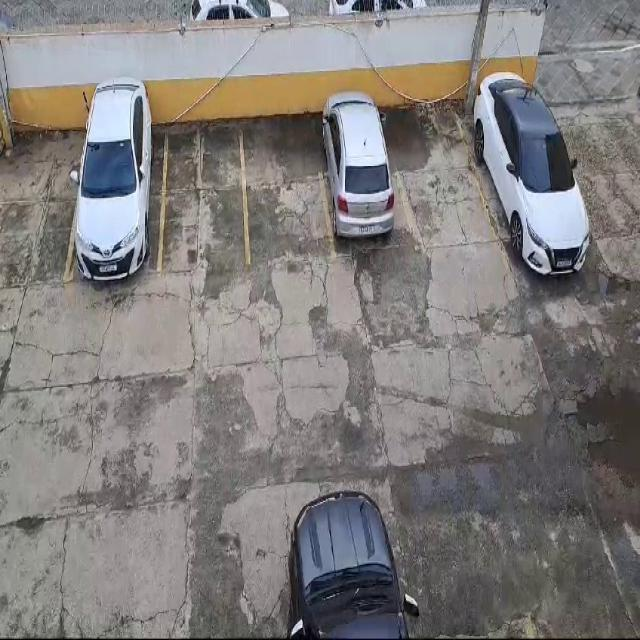empty: (384, 108, 502, 250), (240, 115, 334, 263), (161, 121, 249, 273)
notEmpty: (455, 97, 592, 263), (66, 126, 169, 280), (313, 108, 419, 257)
